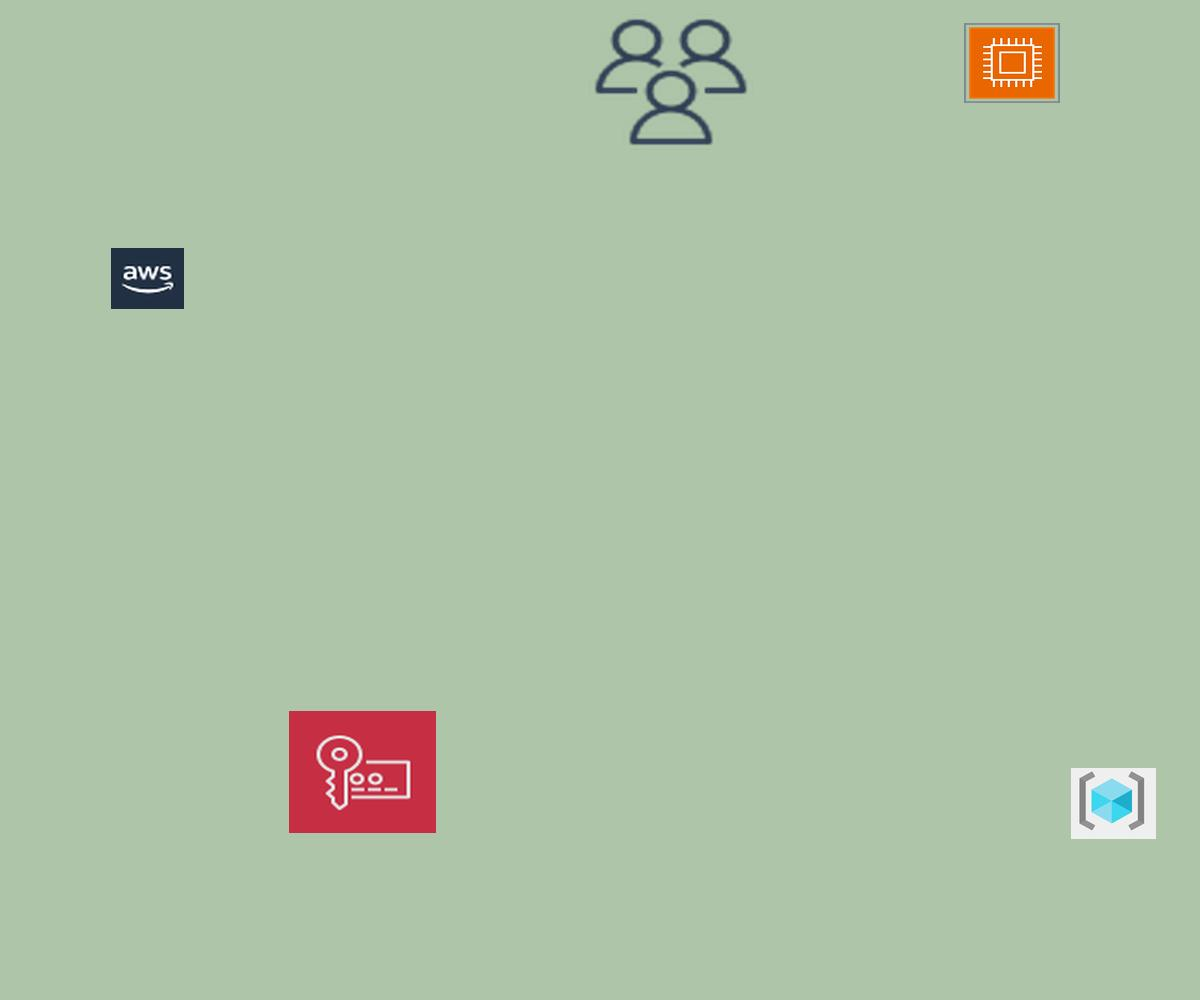AWS-Category_Compute: (964, 23, 1060, 103)
AWS-Cloud-logo: (111, 248, 184, 309)
AWS-Key-Management-Service: (289, 711, 436, 833)
AWS-Res_Users: (589, 14, 753, 150)
Azure_resource_group: (1071, 768, 1156, 839)
